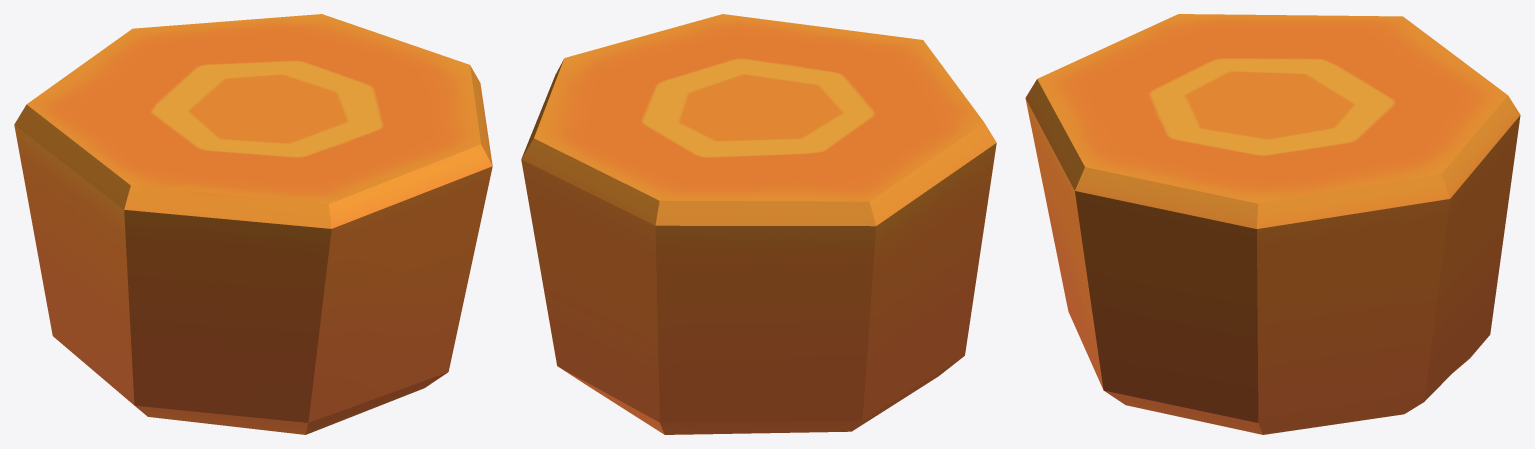
Rendered from Ingredients_Carrot_02.fbx.
The picture shows the model from 3 angles, left to right: view 1: azimuth 30°, elevation 25°; view 2: azimuth 150°, elevation 25°; view 3: azimuth 270°, elevation 25°; orthographic projection. The views are drawn at different scales.
Visible parts, largest first — view 1: Ingredients_Carrot; view 2: Ingredients_Carrot; view 3: Ingredients_Carrot.
Boxes of the visible parts, x1,y1,x2,y2 form: Ingredients_Carrot: [14, 14, 492, 434]; Ingredients_Carrot: [521, 14, 996, 434]; Ingredients_Carrot: [1025, 14, 1520, 434].
Bounding box in the file's own units: 49.04 × 29.42 × 51.45.
Materials: 1 (1 with a texture image).
